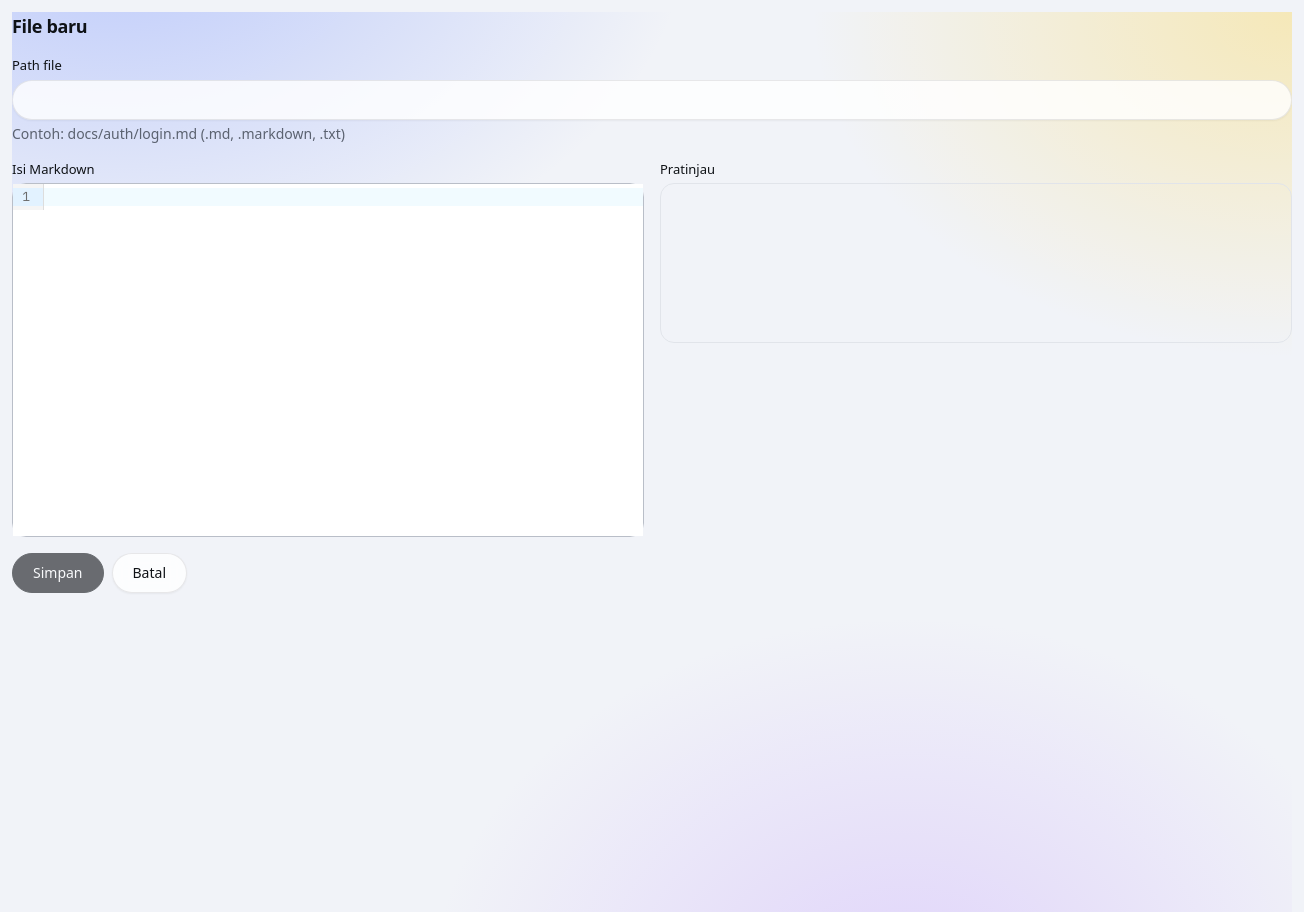
NewFileView › save is disabled for an invalid path, enabled for a valid one
This screenshot has width=1304, height=912.
Expected: the button "Simpan" is disabled, [12,553,104,593]
Type ".env" into the field labelled "Path file" at (652, 100), box [12,80,1292,120]
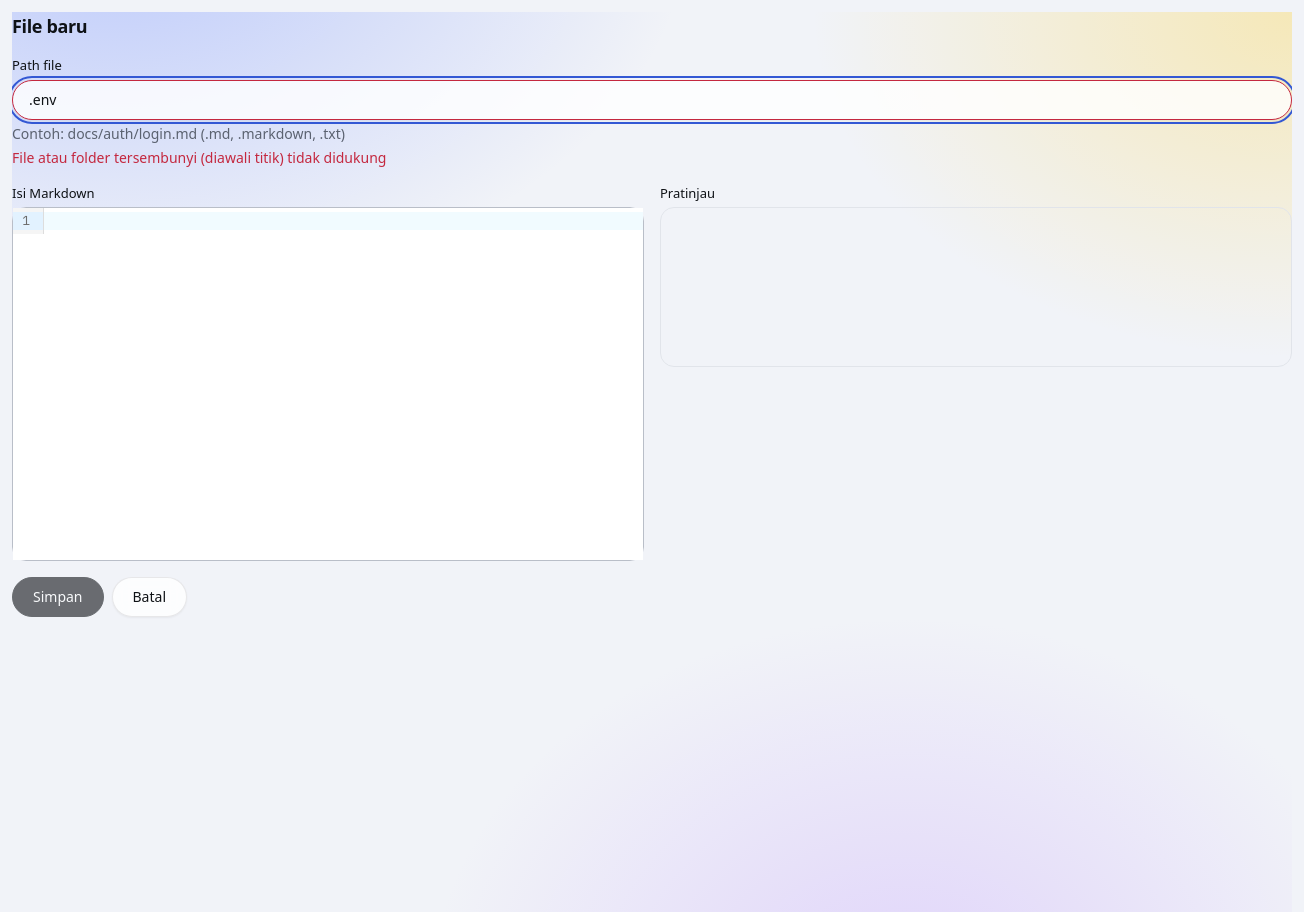
Expected: the button "Simpan" is disabled, [12,577,104,617]
Expected: the text "File atau folder tersembunyi (diawali titik) tidak didukung" is shown, [12,148,386,166]
